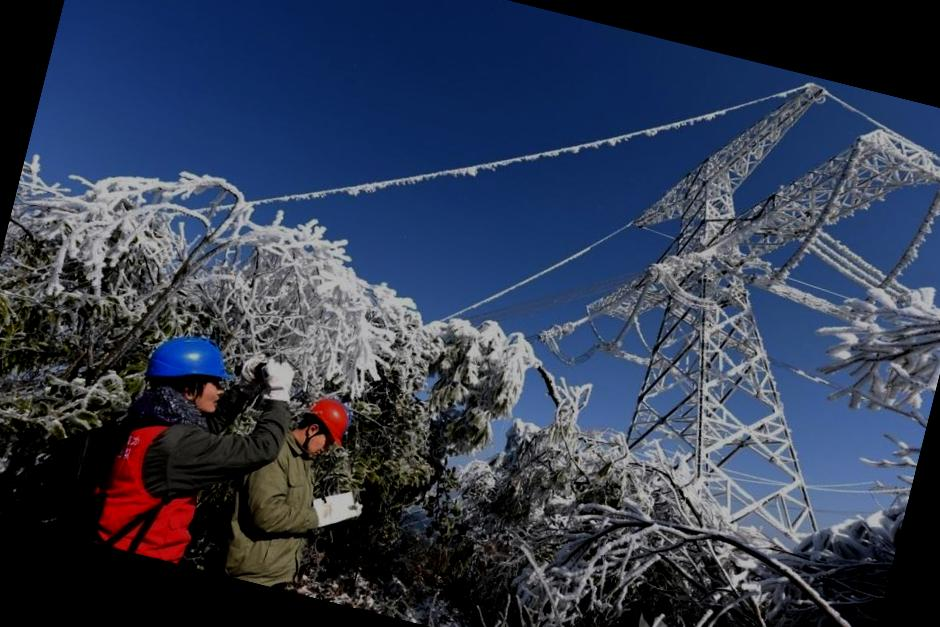helmet: (141, 324, 238, 392), (304, 394, 358, 445)
no_vest: (219, 433, 339, 588), (110, 391, 226, 526)
person: (91, 320, 270, 572), (216, 376, 376, 600)
